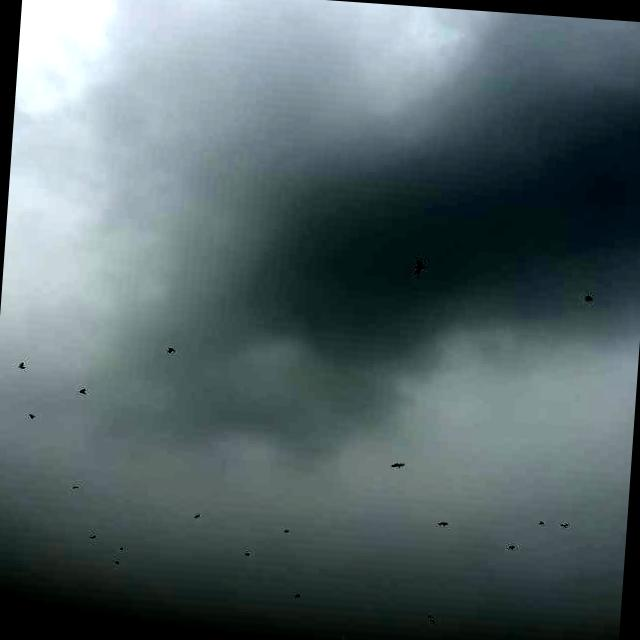bird: (406, 255, 436, 278), (386, 459, 411, 474), (434, 518, 454, 532), (16, 360, 30, 374), (560, 520, 572, 530)
